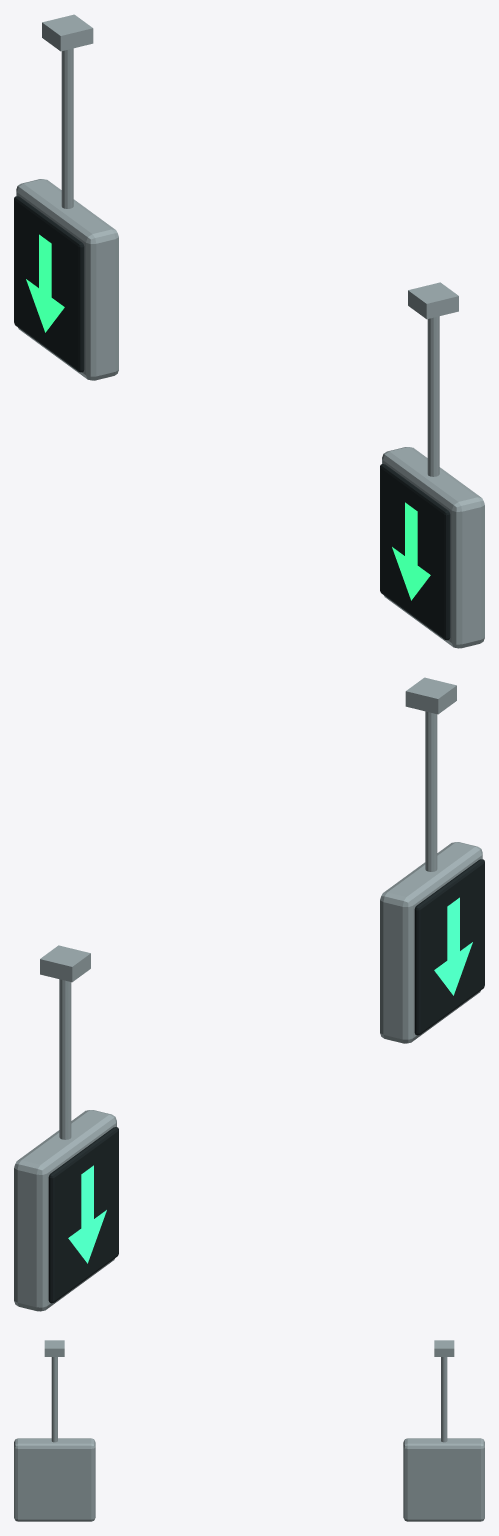
File: lane-indicators.glb
The picture shows the model from 3 angles, top to bottom: view 1: azimuth 30°, elevation 25°; view 2: azimuth 150°, elevation 25°; view 3: azimuth 270°, elevation 25°; orthographic projection. The views are drawn at different scales.
Parts seen in each view (by area): view 1: 柱体, LED black face, Green lane arrow; view 2: 柱体, LED black face, Green lane arrow; view 3: 柱体.
Part boxes in pixels (bbox=[...]): 柱体: bbox=[16, 14, 484, 648]; LED black face: bbox=[14, 196, 450, 640]; Green lane arrow: bbox=[26, 234, 430, 600]; 柱体: bbox=[14, 677, 482, 1311]; LED black face: bbox=[48, 859, 484, 1303]; Green lane arrow: bbox=[68, 897, 472, 1263]; 柱体: bbox=[14, 1340, 484, 1521].
Bounding box in the file's own units: 0.261 × 2.12 × 5.2.
